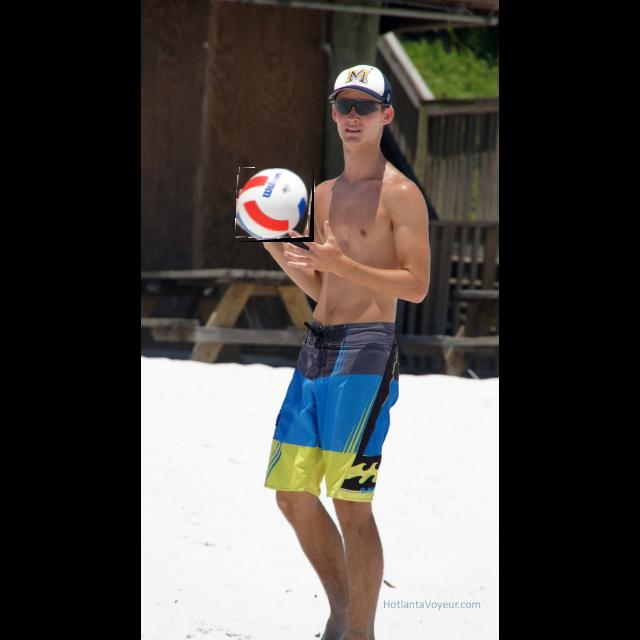Football: (236, 168, 314, 242)
